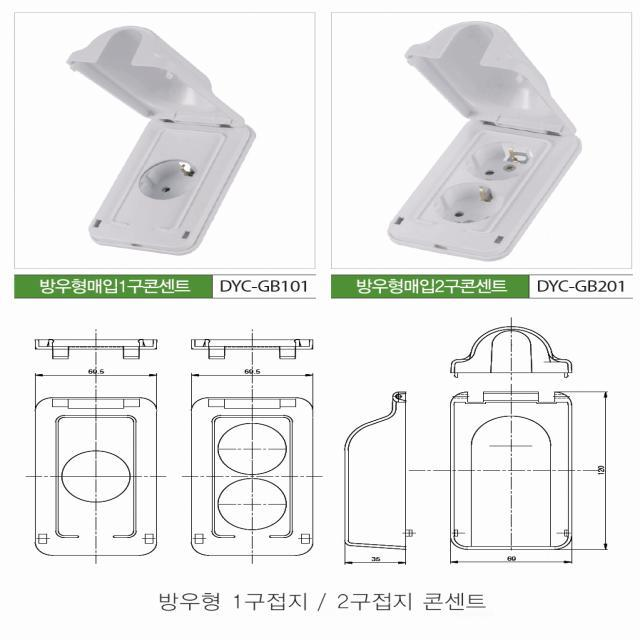typeb: (350, 18, 634, 264)
